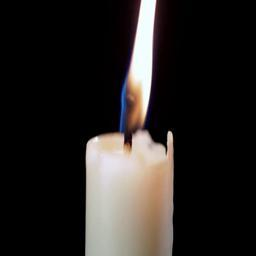fire: (120, 0, 156, 135)
